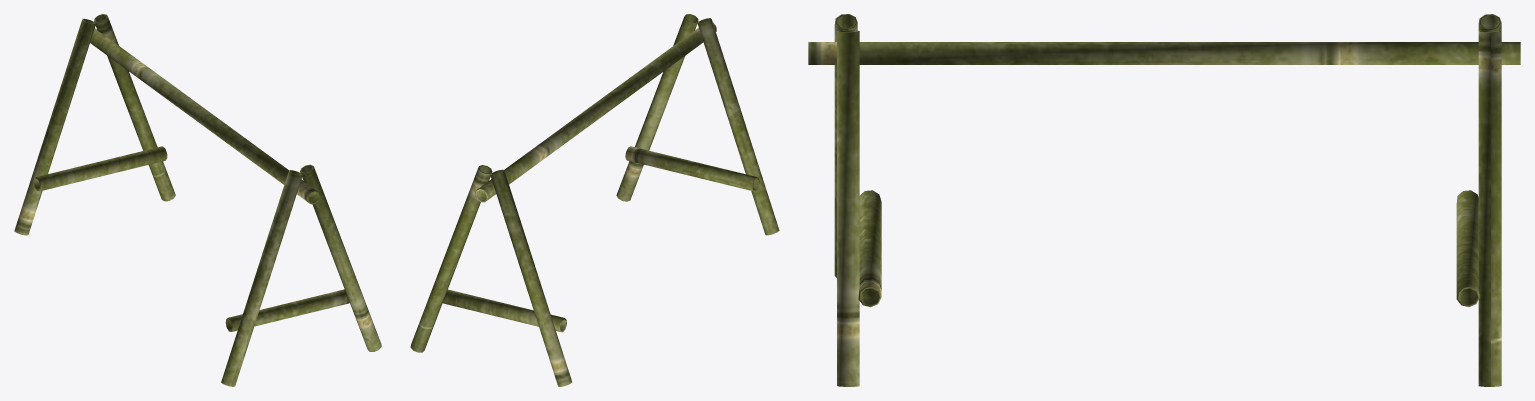
Rendered from altan geçmelik engel_4.fbx.
3 views of the same model, side by side, from view 1: azimuth 30°, elevation 25°; view 2: azimuth 150°, elevation 25°; view 3: azimuth 270°, elevation 25° (orthographic). The views are drawn at different scales.
Parts seen in each view (by area): view 1: Metal_Barrier_1.002, Metal_Barrier_1.001, Metal_Barrier_1; view 2: Metal_Barrier_1.001, Metal_Barrier_1.002, Metal_Barrier_1; view 3: Metal_Barrier_1, Metal_Barrier_1.002, Metal_Barrier_1.001.
Part boxes in pixels (left/top/right/bottom): Metal_Barrier_1.002: left=221, top=164, right=381, bottom=386; Metal_Barrier_1.001: left=14, top=14, right=175, bottom=235; Metal_Barrier_1: left=90, top=28, right=320, bottom=204; Metal_Barrier_1.001: left=410, top=165, right=571, bottom=386; Metal_Barrier_1.002: left=616, top=14, right=779, bottom=235; Metal_Barrier_1: left=475, top=22, right=716, bottom=202; Metal_Barrier_1: left=808, top=42, right=1520, bottom=64; Metal_Barrier_1.002: left=834, top=14, right=881, bottom=386; Metal_Barrier_1.001: left=1456, top=14, right=1501, bottom=386.
Bounding box in the file's own units: 2937 × 3506 × 7290.
